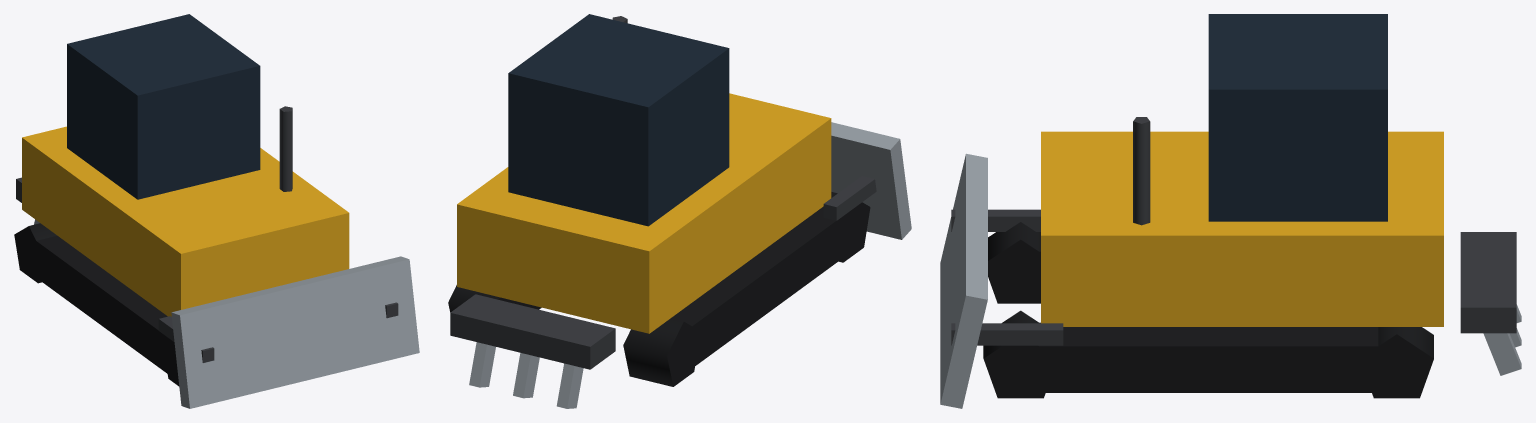
The model's file is veh_ground_bulldozer_a07_lod1.glb.
3 views of the same model, side by side, from view 1: azimuth 30°, elevation 25°; view 2: azimuth 150°, elevation 25°; view 3: azimuth 270°, elevation 25° (orthographic). The views are drawn at different scales.
Visible parts, largest first — view 1: body, blade, track_r; view 2: body, track_r, ripper, blade, track_l; view 3: body, track_l, blade, ripper, track_r.
Part boxes in pixels (<box>): body: <box>22,14,349,316</box>; blade: <box>158,256,419,408</box>; track_r: <box>14,223,179,386</box>; body: <box>457,14,831,333</box>; track_r: <box>623,192,870,386</box>; ripper: <box>450,294,615,408</box>; blade: <box>823,122,911,239</box>; track_l: <box>448,285,541,312</box>; body: <box>1041,14,1443,326</box>; track_l: <box>983,310,1433,398</box>; blade: <box>940,153,1063,408</box>; ripper: <box>1460,232,1521,375</box>; track_r: <box>988,222,1040,303</box>.
Size of the model in its own units: 3 by 2.93 by 5.19.
